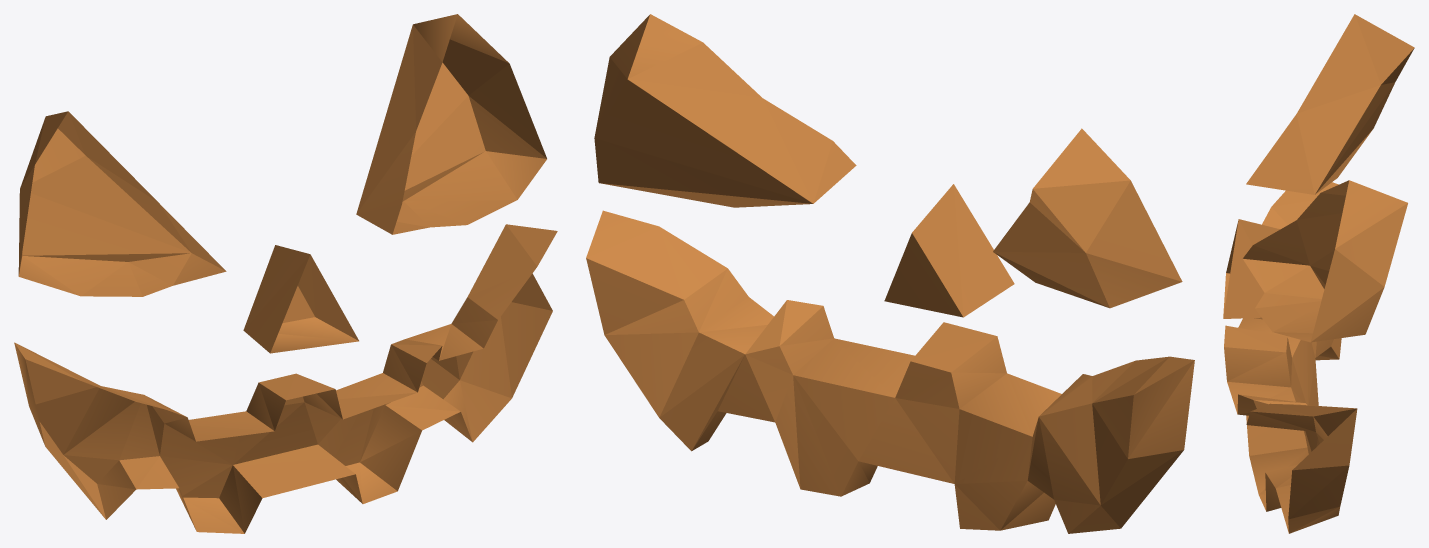
File: EVHalloween_Decor_JackOLanternGrin_Glow3.fbx
3 views of the same model, side by side, from view 1: azimuth 30°, elevation 25°; view 2: azimuth 150°, elevation 25°; view 3: azimuth 270°, elevation 25° (orthographic). The views are drawn at different scales.
Visible parts, largest first — view 1: EVHalloween_Decor_PumpkinOrange; view 2: EVHalloween_Decor_PumpkinOrange; view 3: EVHalloween_Decor_PumpkinOrange.
Boxes of the visible parts, x1,y1,x2,y2 form: EVHalloween_Decor_PumpkinOrange: (14,14,557,533); EVHalloween_Decor_PumpkinOrange: (586,14,1194,533); EVHalloween_Decor_PumpkinOrange: (1223,14,1414,533).
Bounding box in the file's own units: 18.69 × 14.15 × 6.47.
